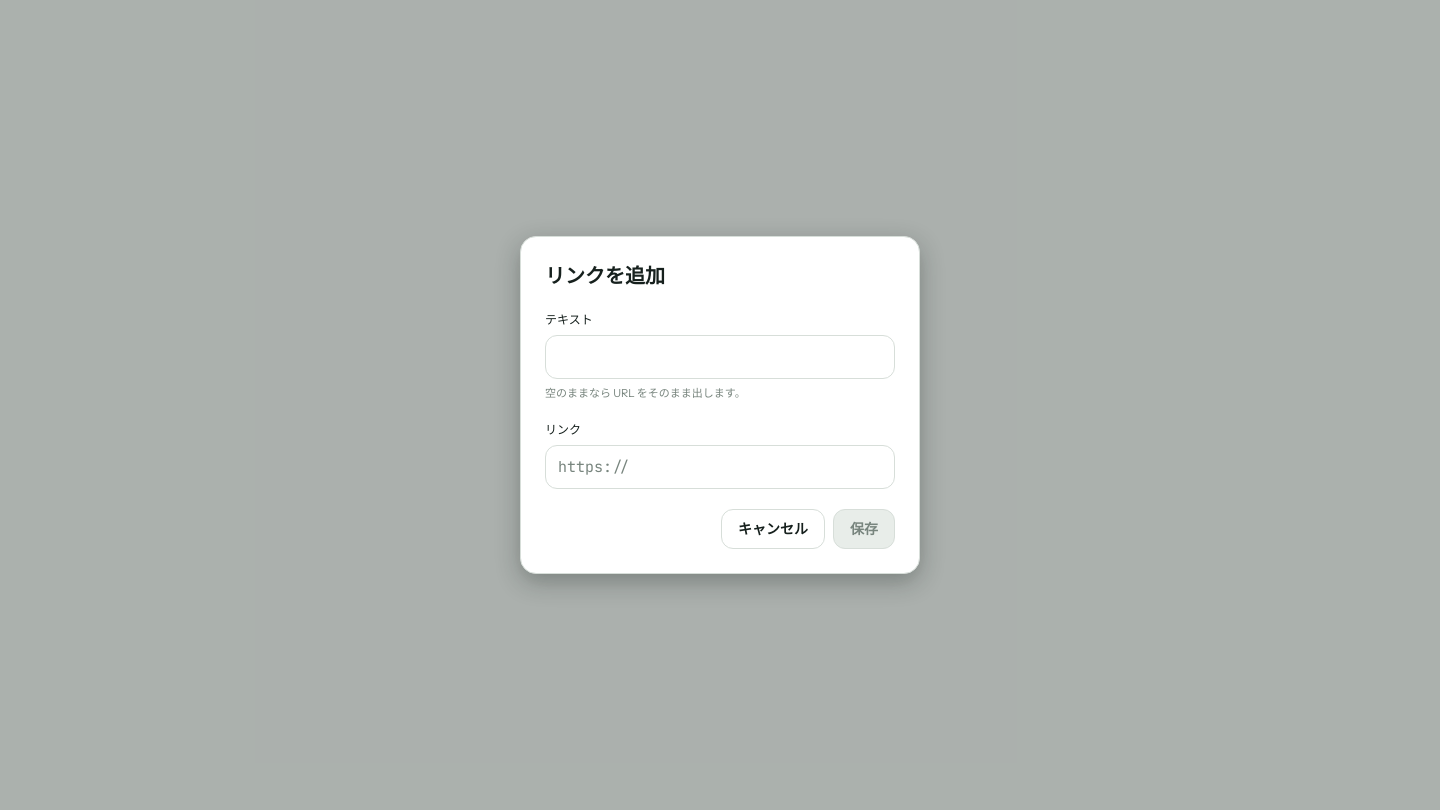
Test: LinkDialog（ADR 0052 決定 5 / ADR 0051 決定 4 の追記） › http / https でない URL は保存できない
This screenshot has width=1440, height=810.
Type "javascript:alert(1)" into the field labelled "リンク" at (720, 467), box left=545, top=445, right=895, bottom=489
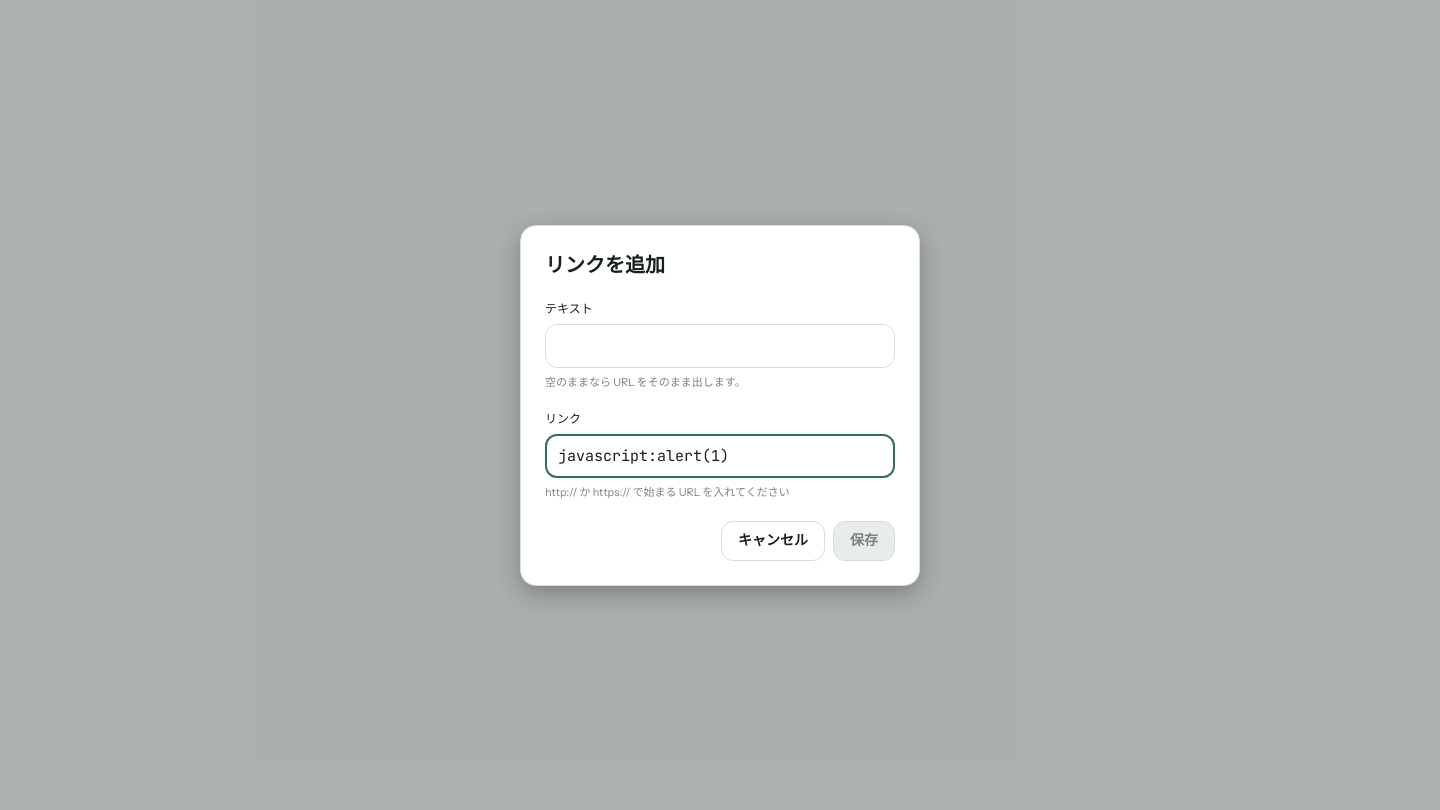
Check: the button "保存" is disabled, box left=833, top=520, right=895, bottom=560
Check: the text "http:// か https:// で始まる URL を入れてください" is shown, box left=545, top=485, right=790, bottom=499
